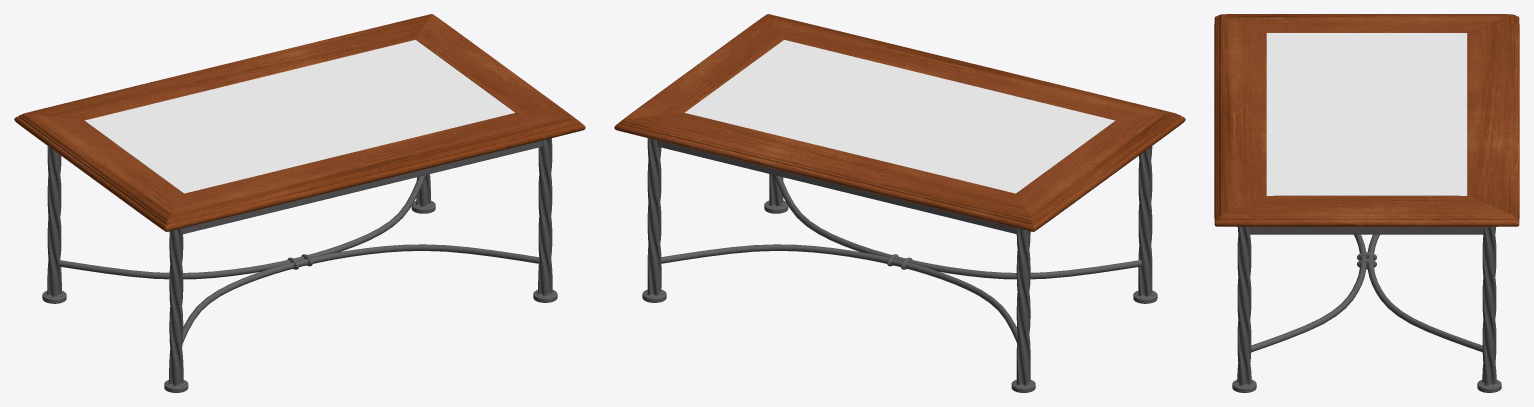
File: table_wood_and_iron.glb
3 renders of one model, left to right at view 1: azimuth 30°, elevation 25°; view 2: azimuth 150°, elevation 25°; view 3: azimuth 270°, elevation 25°, orthographic.
Parts seen in each view (by area): view 1: woodenframe_Plane.001, glass_Cube, ironbase_Cylinder.002; view 2: woodenframe_Plane.001, glass_Cube, ironbase_Cylinder.002; view 3: glass_Cube, woodenframe_Plane.001, ironbase_Cylinder.002.
Part boxes in pixels (bbox=[...]): woodenframe_Plane.001: bbox=[14, 14, 585, 231]; glass_Cube: bbox=[84, 40, 514, 193]; ironbase_Cylinder.002: bbox=[42, 138, 557, 392]; woodenframe_Plane.001: bbox=[614, 14, 1185, 231]; glass_Cube: bbox=[685, 40, 1115, 193]; ironbase_Cylinder.002: bbox=[642, 138, 1157, 392]; glass_Cube: bbox=[1266, 33, 1467, 195]; woodenframe_Plane.001: bbox=[1214, 14, 1519, 226]; ironbase_Cylinder.002: bbox=[1232, 227, 1501, 392].
Bounding box in the file's own units: 1.21 × 0.5026 × 0.7582.
3 materials, 1 textured.
